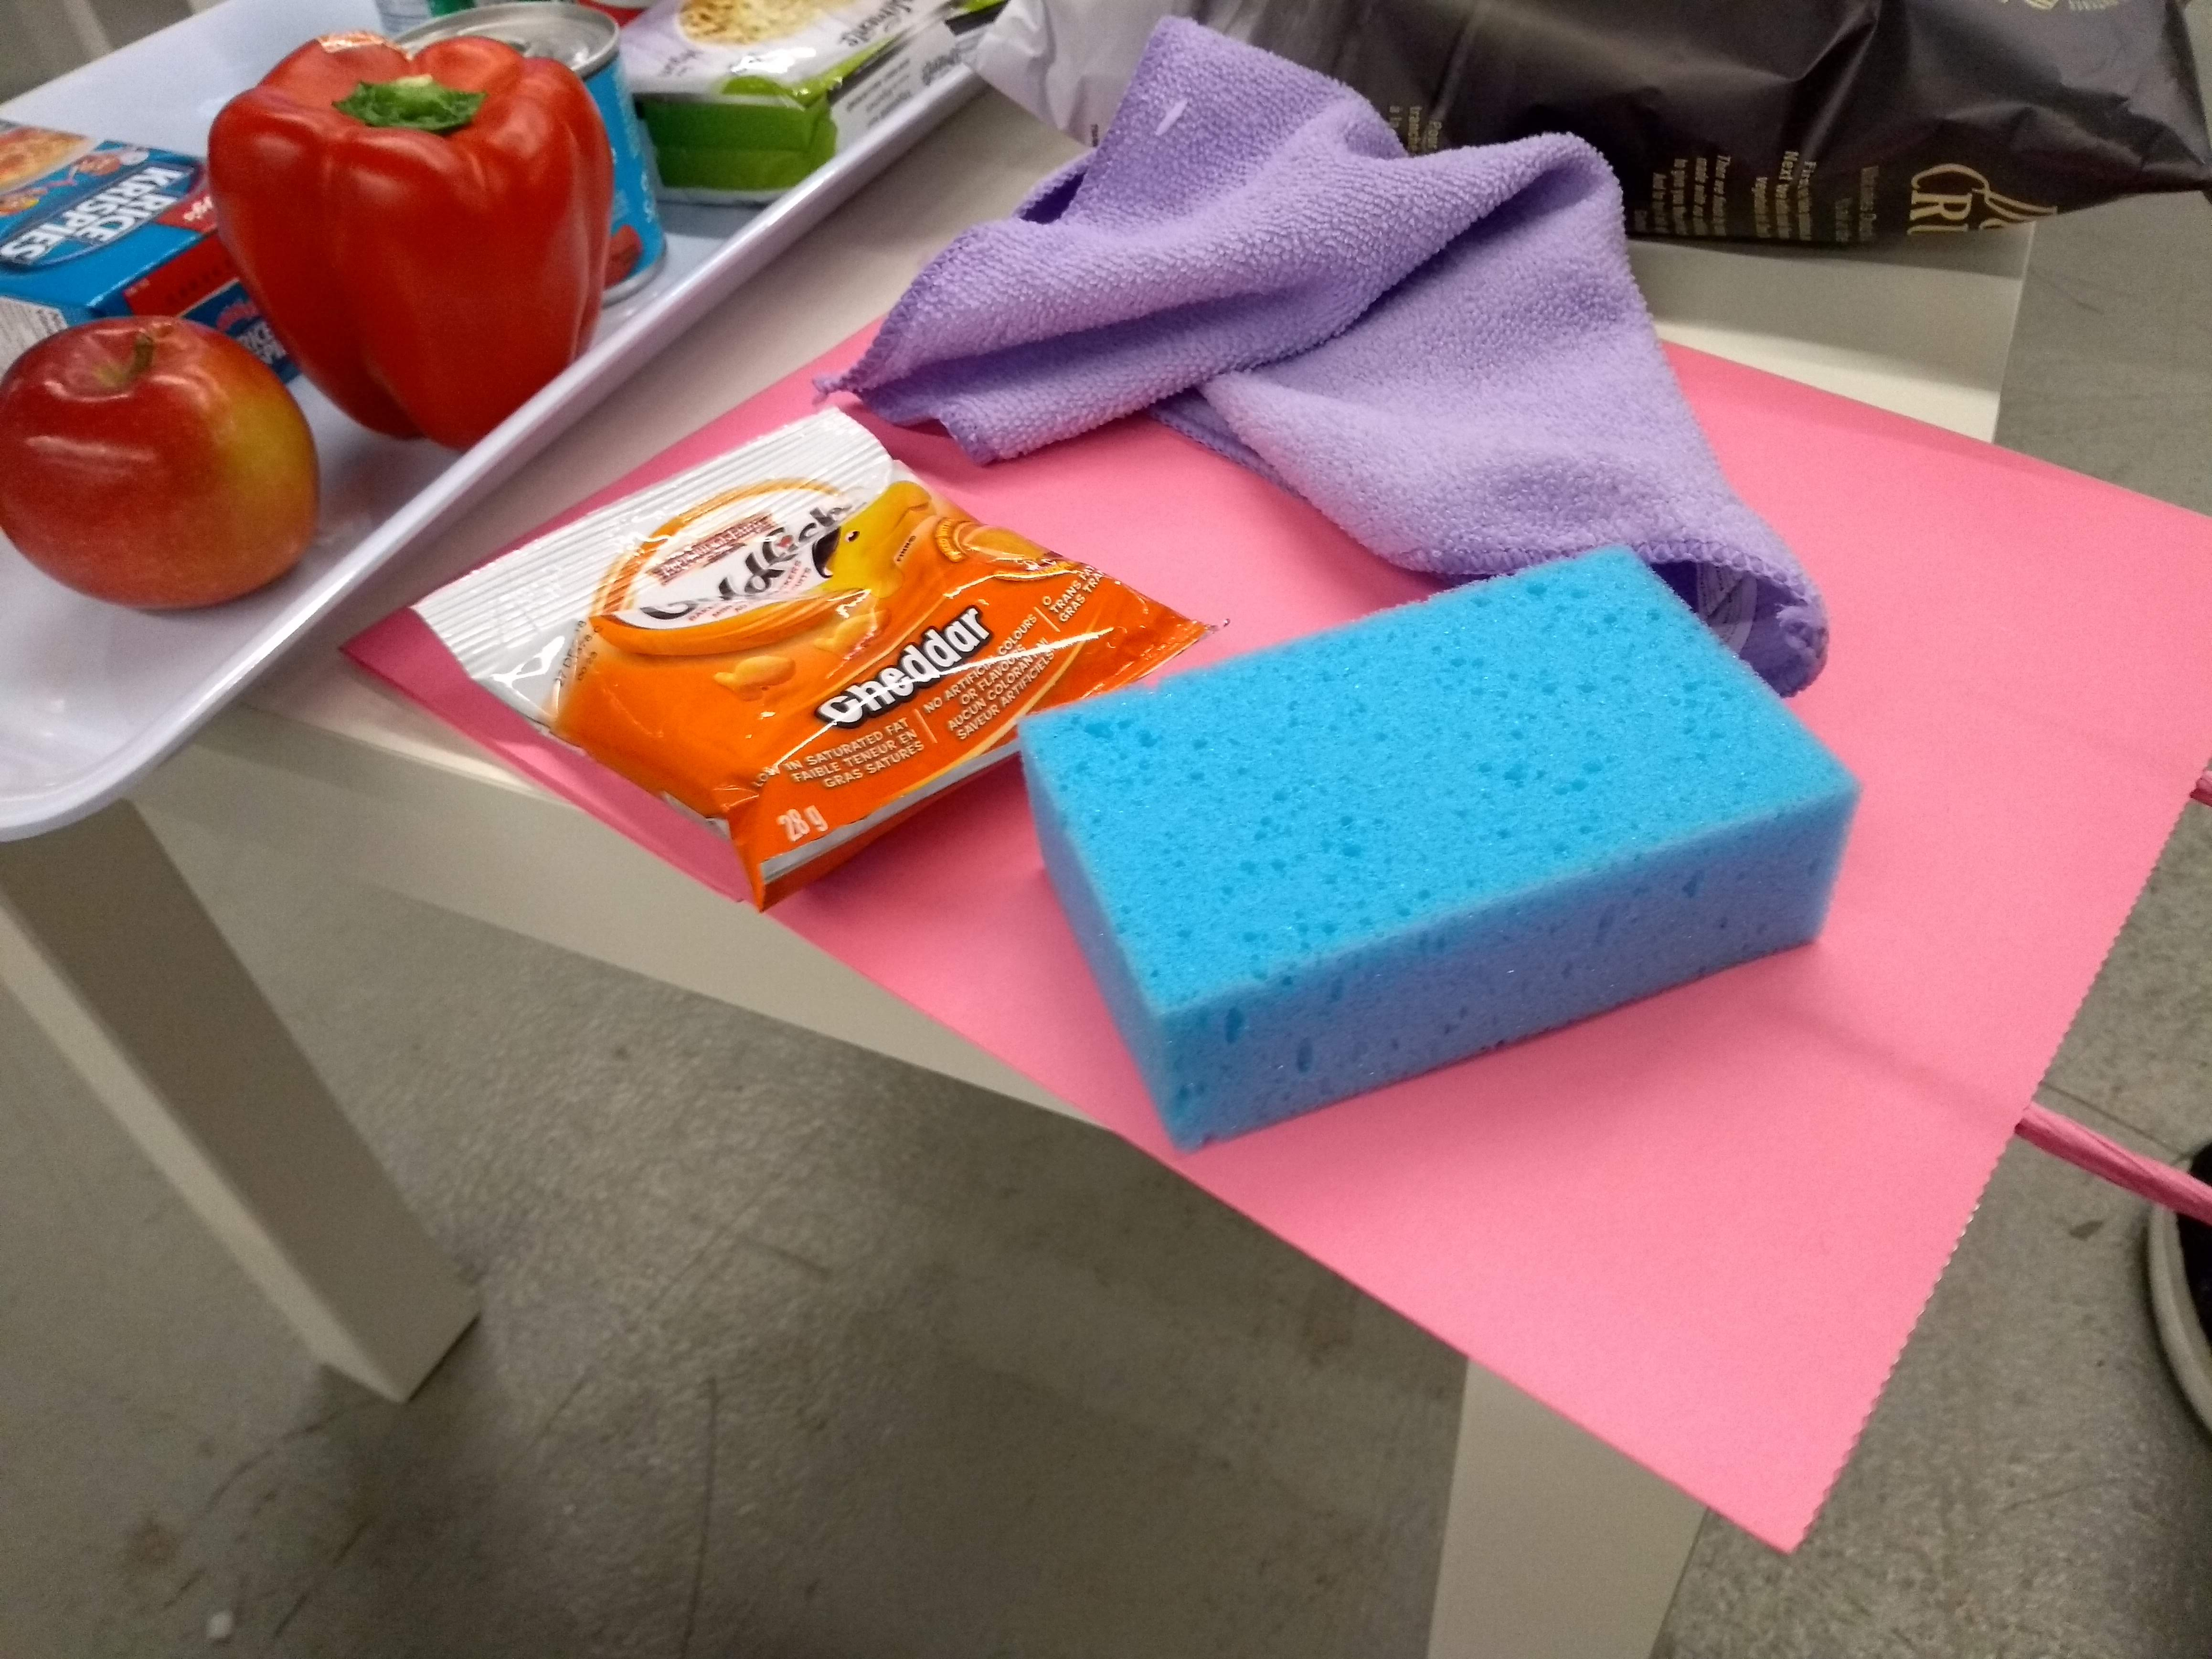apple: (0, 310, 331, 629)
cloth_opl: (794, 14, 1836, 723)
crackers: (395, 387, 1240, 934)
paprika: (199, 21, 625, 471)
sponge_opl: (1007, 528, 1872, 1173)
